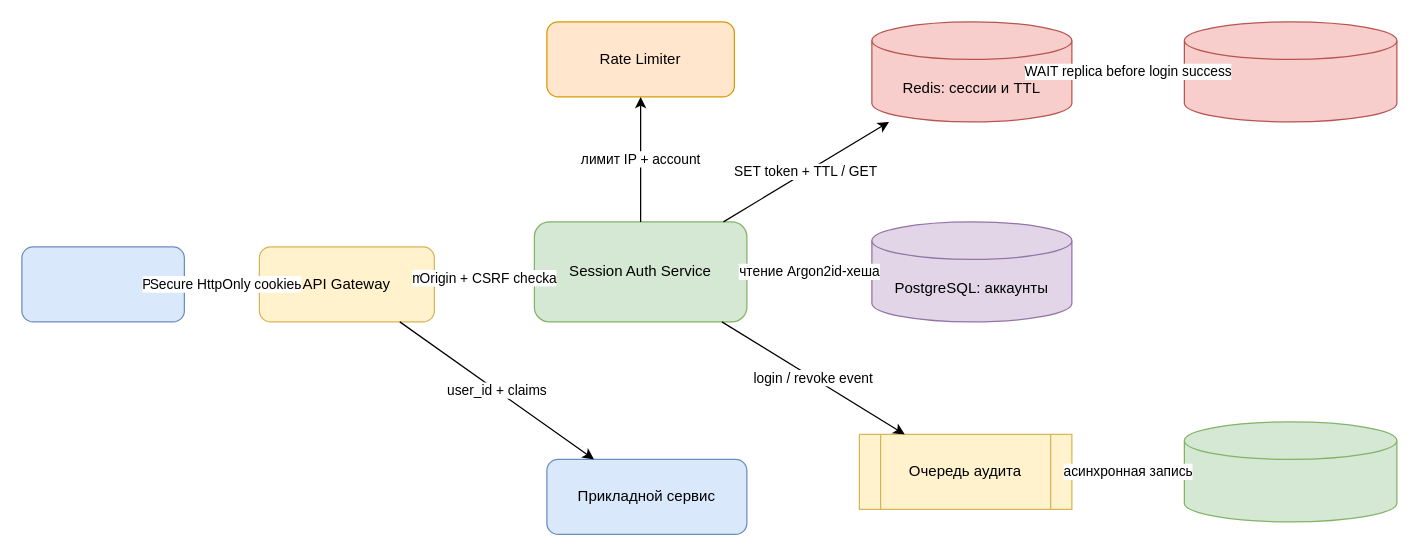
The diagram is 1419 pixels wide and 556 high, and some of its shapes have lost their labels. The shapes that lost their labels are listed below. From the top down, each one's centre as x and y in pixels, then its label:
point (1290, 71): Redis Replica / Failover
point (102, 284): Веб-клиент
point (1290, 471): Неизменяемый журнал
